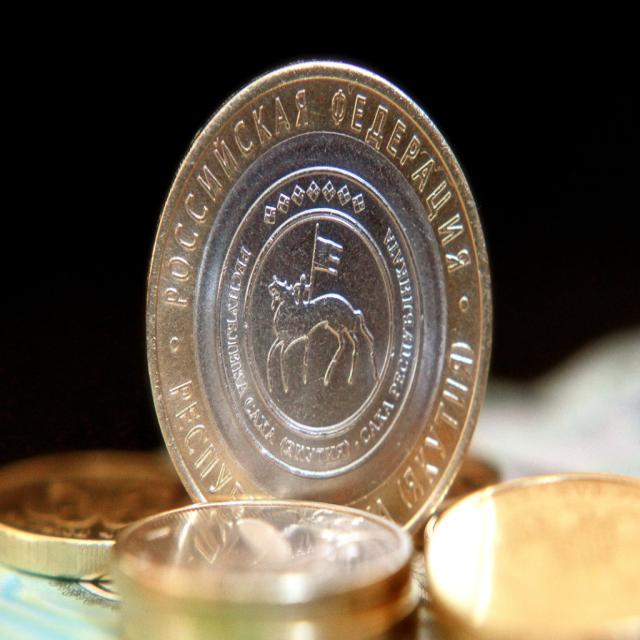Coin: (146, 70, 492, 532), (110, 495, 412, 639), (424, 470, 640, 639), (0, 451, 189, 575)
